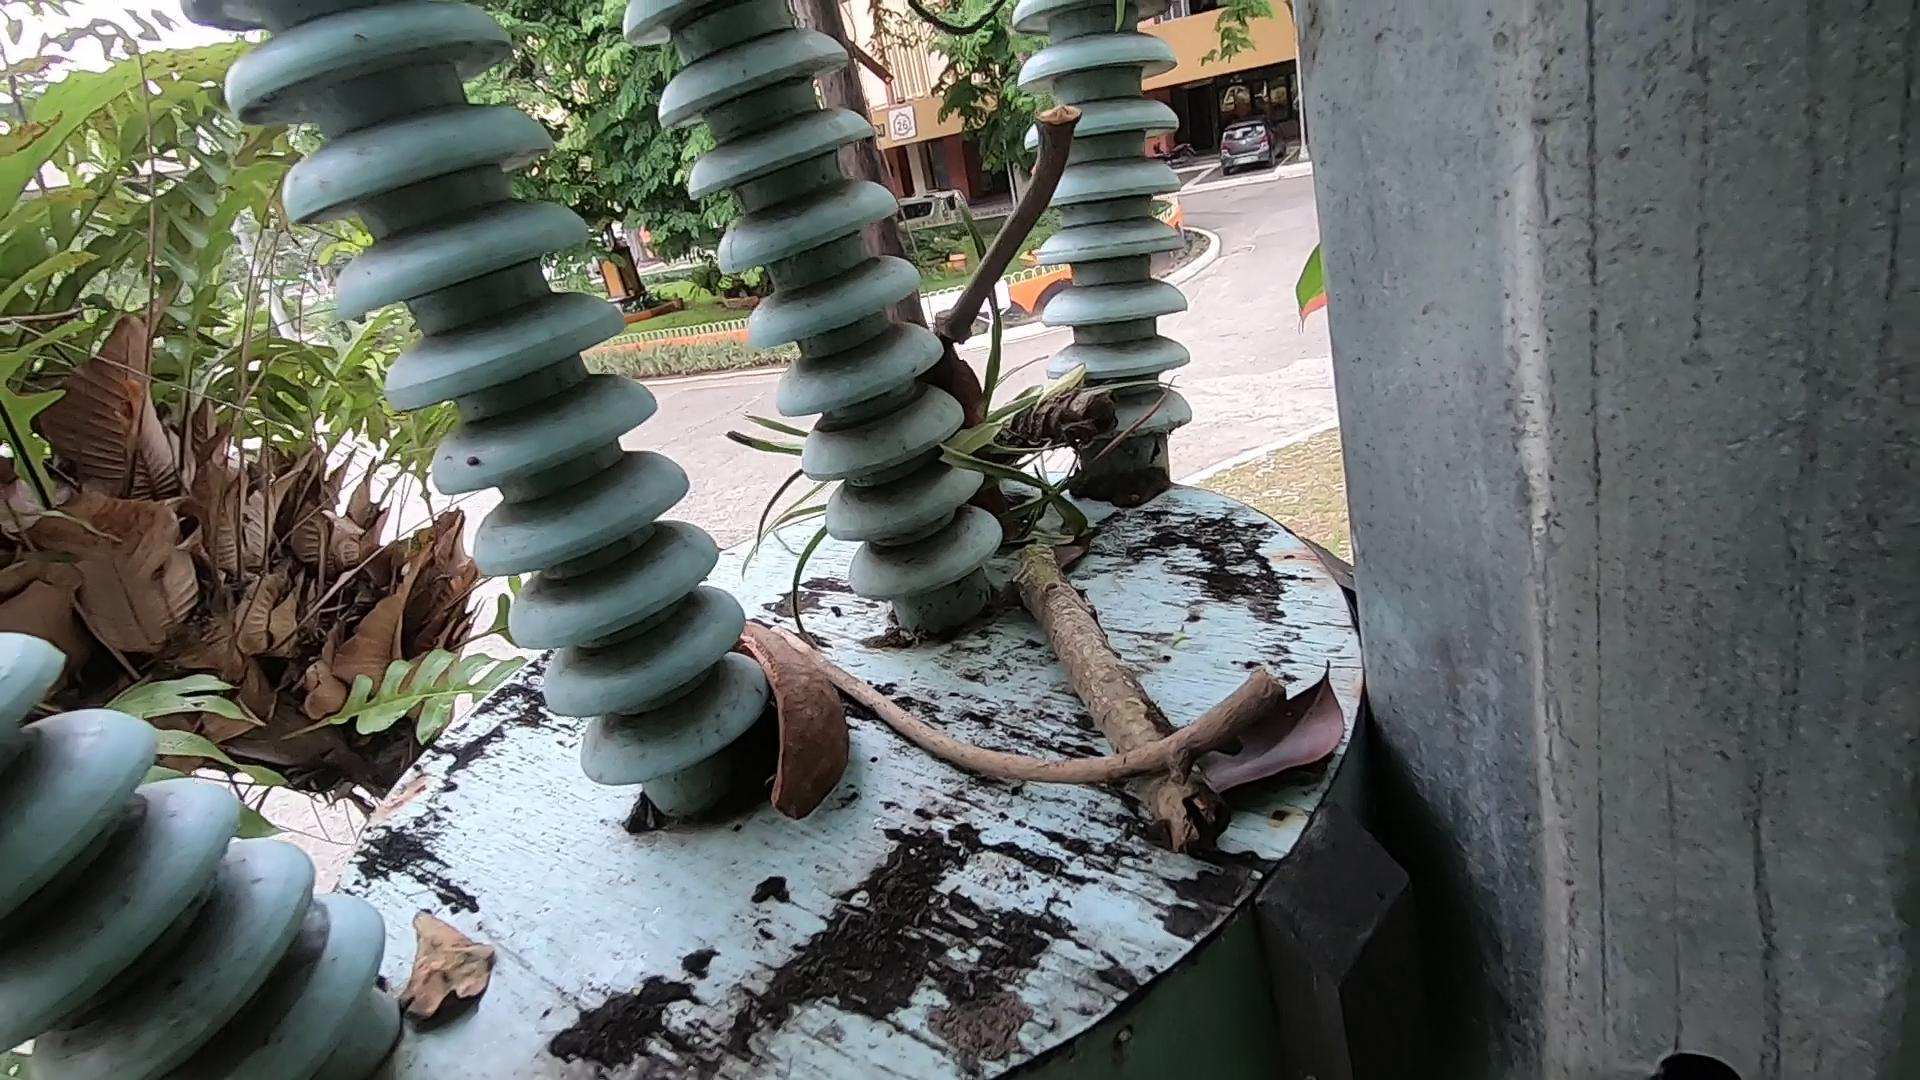branch with leaves: (945, 233, 1265, 913)
leaf: (381, 865, 570, 1080), (1170, 653, 1360, 819)
mahogany fruit: (724, 564, 897, 855), (913, 324, 1043, 578)
tree branch: (762, 607, 1299, 848), (837, 69, 1158, 448)
